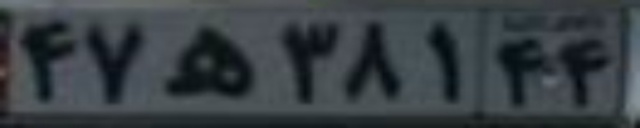1: (425, 22, 463, 104)
3: (278, 20, 341, 104)
4: (19, 18, 77, 104), (559, 38, 614, 107), (498, 37, 546, 109)
7: (84, 21, 145, 103)
8: (346, 20, 400, 103)
he: (166, 26, 254, 99)
